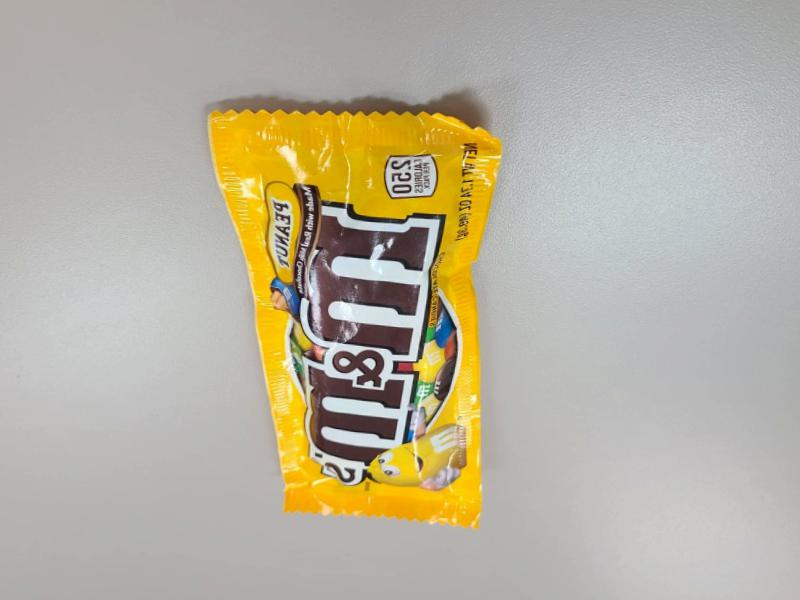m&m: (192, 57, 489, 559)
